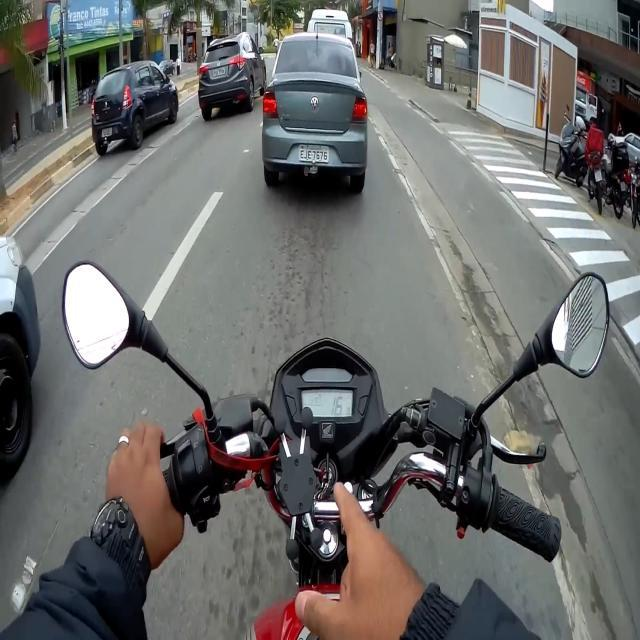Placa_mercosul_carro: (298, 145, 328, 162)
